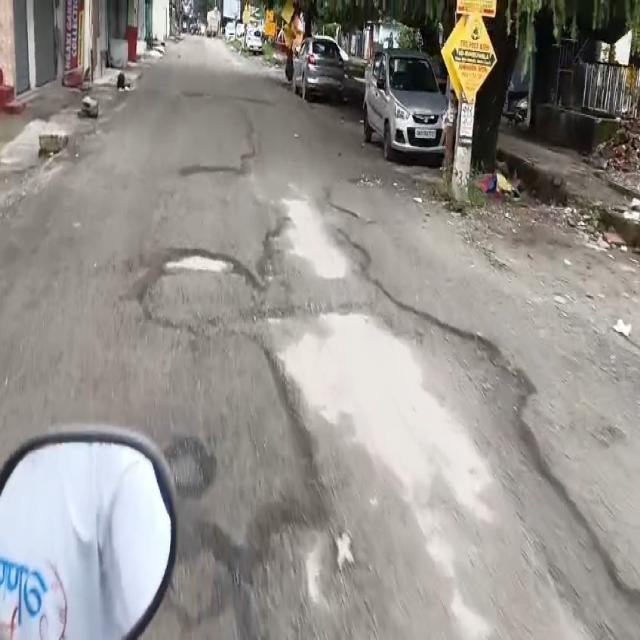road-pothole: (235, 304, 639, 635), (124, 245, 264, 353), (262, 200, 372, 295), (169, 526, 233, 629), (163, 438, 216, 493), (176, 163, 251, 196)
